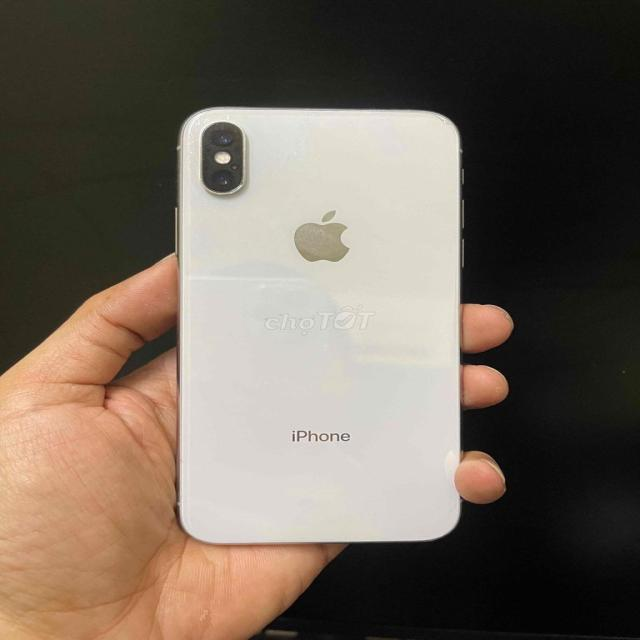scratch: (236, 177, 249, 189)
